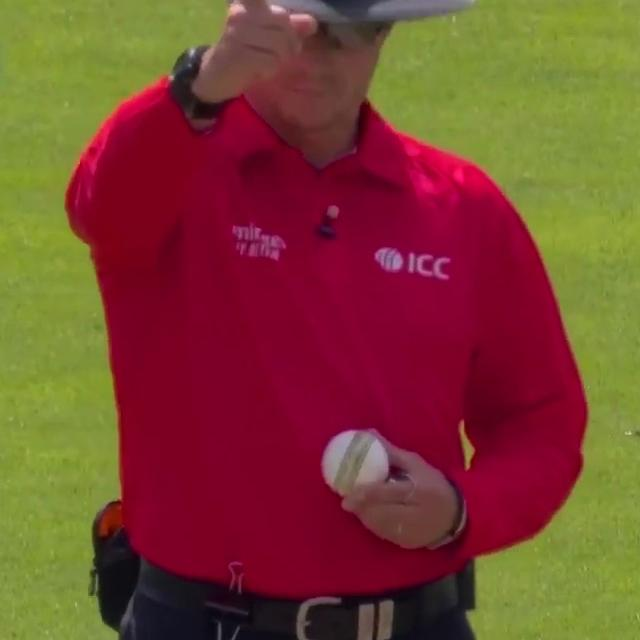umpire: (25, 0, 638, 640)
